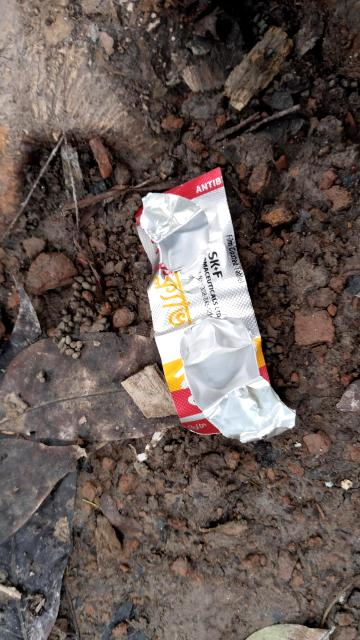medicine: (139, 161, 290, 438)
